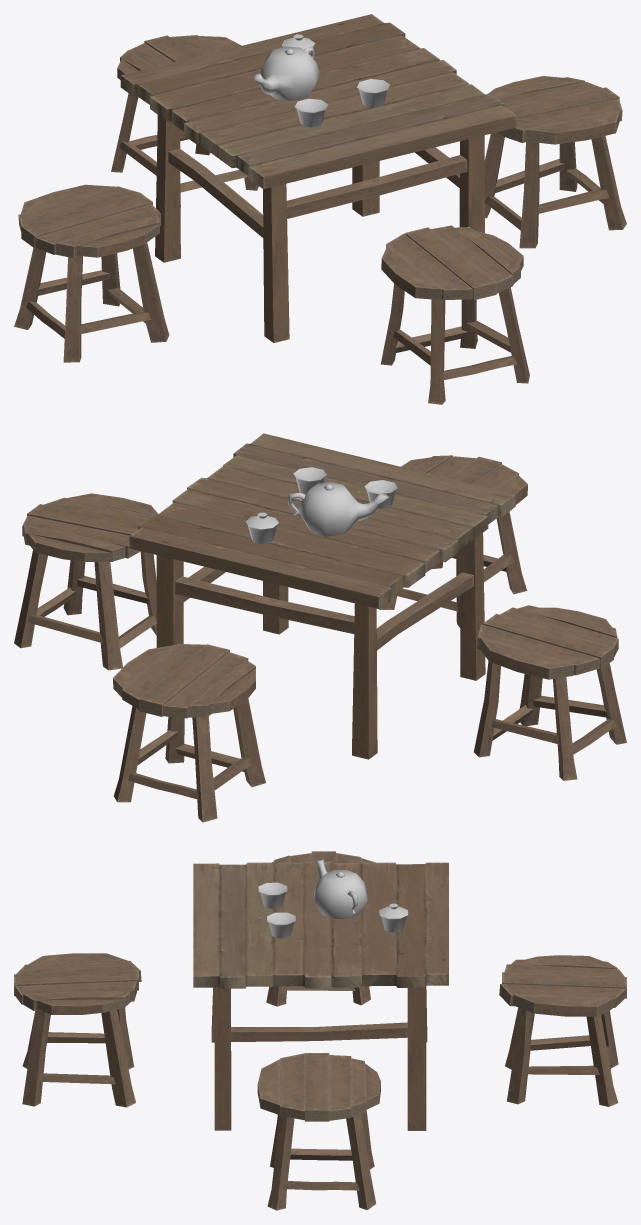
File: Homeworld_Exterior_Ly_PairChair_Chair_03_Vo.fbx
3 renders of one model, top to bottom at view 1: azimuth 30°, elevation 25°; view 2: azimuth 150°, elevation 25°; view 3: azimuth 270°, elevation 25°, orthographic. The views are drawn at different scales.
Visible parts, largest first — view 1: Area_Ly_Prop_Common_Table_A_02_Vo, Area_Ly_Prop_Common_Chair_A_02_Vo (1), Area_Ly_Prop_Common_Chair_A_02_Vo (3), Area_Ly_Prop_Common_Chair_A_02_Vo (2), Area_Ly_Prop_Common_Chair_A_02_Vo, Area_Ly_Prop_Common_Teapot_01_Vo; view 2: Area_Ly_Prop_Common_Table_A_02_Vo, Area_Ly_Prop_Common_Chair_A_02_Vo, Area_Ly_Prop_Common_Chair_A_02_Vo (1), Area_Ly_Prop_Common_Chair_A_02_Vo (2), Area_Ly_Prop_Common_Chair_A_02_Vo (3), Area_Ly_Prop_Common_Teapot_01_Vo; view 3: Area_Ly_Prop_Common_Table_A_02_Vo, Area_Ly_Prop_Common_Chair_A_02_Vo (3), Area_Ly_Prop_Common_Chair_A_02_Vo (2), Area_Ly_Prop_Common_Chair_A_02_Vo, Area_Ly_Prop_Common_Teapot_01_Vo, Area_Ly_Prop_Common_Chair_A_02_Vo (1).
Part boxes in pixels (x1,y1,x2,y2): Area_Ly_Prop_Common_Table_A_02_Vo: [120, 14, 516, 342]; Area_Ly_Prop_Common_Chair_A_02_Vo (1): [14, 184, 169, 362]; Area_Ly_Prop_Common_Chair_A_02_Vo (3): [380, 225, 529, 404]; Area_Ly_Prop_Common_Chair_A_02_Vo (2): [484, 76, 626, 248]; Area_Ly_Prop_Common_Chair_A_02_Vo: [111, 35, 258, 206]; Area_Ly_Prop_Common_Teapot_01_Vo: [253, 34, 389, 127]; Area_Ly_Prop_Common_Table_A_02_Vo: [129, 433, 515, 759]; Area_Ly_Prop_Common_Chair_A_02_Vo: [113, 644, 265, 822]; Area_Ly_Prop_Common_Chair_A_02_Vo (1): [474, 605, 626, 780]; Area_Ly_Prop_Common_Chair_A_02_Vo (2): [14, 493, 158, 670]; Area_Ly_Prop_Common_Chair_A_02_Vo (3): [379, 455, 527, 627]; Area_Ly_Prop_Common_Teapot_01_Vo: [245, 467, 397, 543]; Area_Ly_Prop_Common_Table_A_02_Vo: [193, 861, 448, 1130]; Area_Ly_Prop_Common_Chair_A_02_Vo (3): [14, 953, 141, 1107]; Area_Ly_Prop_Common_Chair_A_02_Vo (2): [257, 1053, 380, 1210]; Area_Ly_Prop_Common_Chair_A_02_Vo: [499, 955, 626, 1106]; Area_Ly_Prop_Common_Teapot_01_Vo: [258, 859, 408, 938]; Area_Ly_Prop_Common_Chair_A_02_Vo (1): [266, 851, 375, 1006].
Bounding box in the file's own units: 2.66 × 0.9813 × 2.66.
